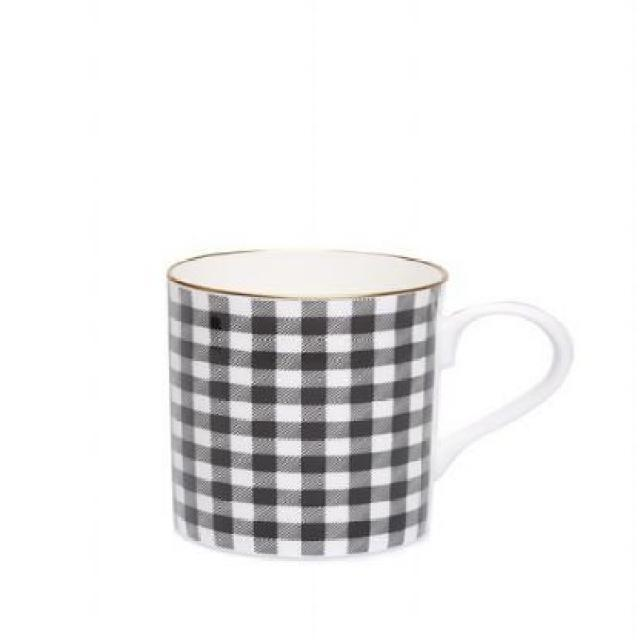taza: (166, 245, 572, 562)
